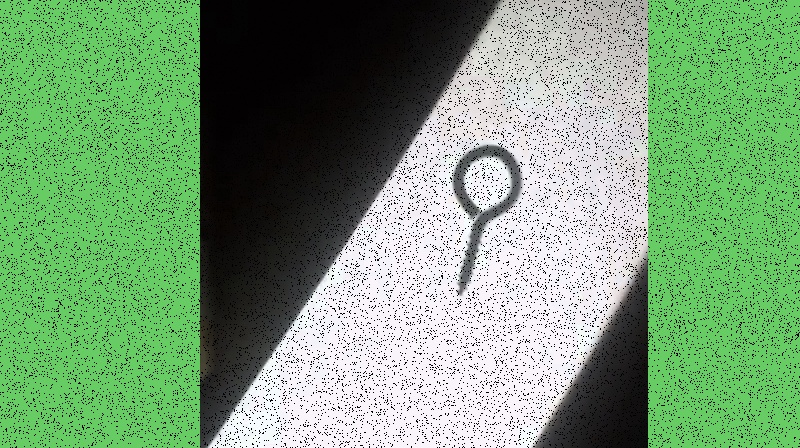O001: (448, 141, 524, 299)
